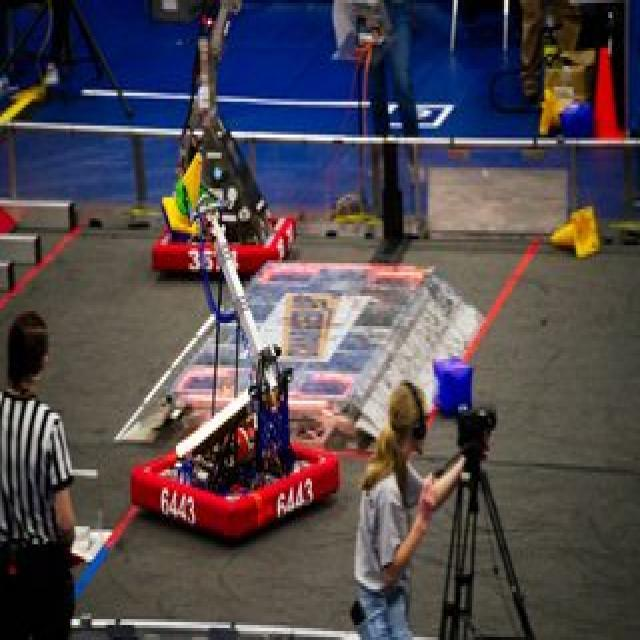robot: (130, 204, 338, 558), (149, 0, 321, 276)
